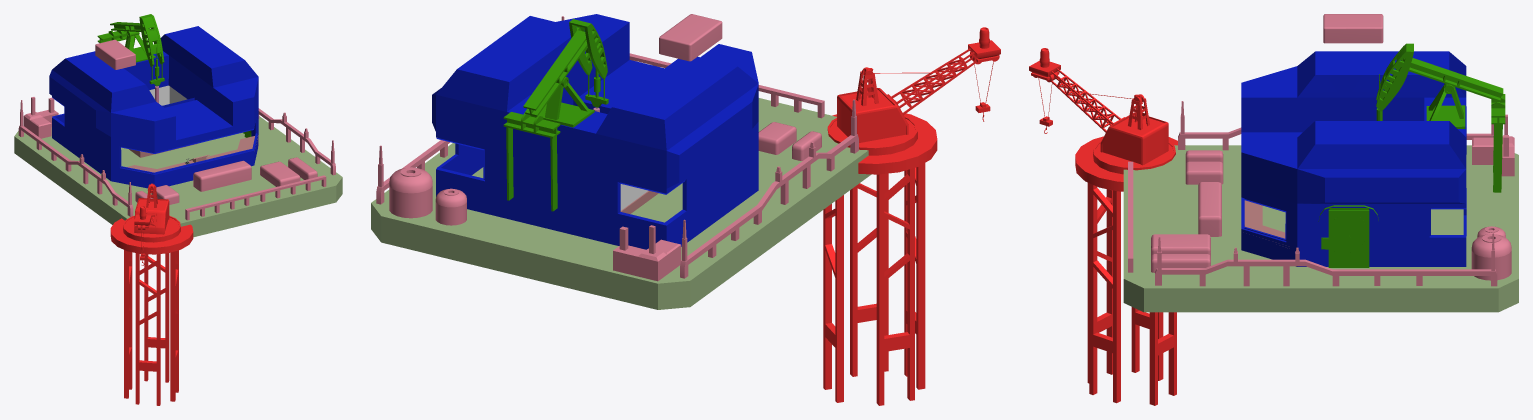
Rendered from sichu_in_all.fbx.
3 renders of one model, left to right at view 1: azimuth 30°, elevation 25°; view 2: azimuth 150°, elevation 25°; view 3: azimuth 270°, elevation 25°, orthographic. The views are drawn at different scales.
Parts seen in each view (by area): view 1: Box005, main_board, front_steel_structure2, Box024, Box003, Cylinder018, Box002, Box017, Box018, Box059, Box056, Cylinder019 (+2 smaller); view 2: Box005, main_board, front_steel_structure2, Box024, Box003, Cylinder016, Box018, Box059, Cylinder018, Box054, Box021, Cylinder019 (+7 smaller); view 3: Box005, main_board, front_steel_structure2, Box024, Box017, Box018, Cylinder016, Box054, Cylinder018, Box031, Box056, Box059 (+10 smaller).
Part boxes in pixels (x1,y1,x2,y2): Box005: (49, 26, 258, 188); main_board: (14, 116, 342, 237); front_steel_structure2: (124, 250, 178, 405); Box024: (95, 39, 317, 204); Box003: (18, 100, 133, 216); Cylinder018: (110, 218, 193, 254); Box002: (185, 175, 326, 220); Box017: (258, 108, 335, 175); Box018: (134, 198, 169, 234); Box059: (23, 97, 58, 138); Box056: (139, 14, 164, 66); Cylinder019: (123, 215, 180, 242); Box005: (432, 14, 758, 249); main_board: (371, 98, 871, 309); front_steel_structure2: (823, 163, 925, 405); Box024: (659, 14, 821, 160); Box003: (680, 99, 858, 278); Cylinder016: (389, 167, 466, 225); Box018: (837, 88, 908, 142); Box059: (613, 225, 681, 281); Cylinder018: (832, 113, 937, 174); Box054: (523, 30, 587, 116); Box021: (891, 48, 974, 114); Cylinder019: (827, 115, 917, 155); Box005: (1241, 51, 1466, 266); main_board: (1123, 145, 1518, 312); front_steel_structure2: (1087, 182, 1176, 405); Box024: (1151, 14, 1383, 272); Box017: (1155, 233, 1497, 286); Box018: (1100, 112, 1168, 165); Cylinder016: (1471, 226, 1511, 280); Box054: (1403, 58, 1503, 101); Cylinder018: (1075, 136, 1177, 191); Box031: (1328, 210, 1350, 267); Box056: (1376, 43, 1413, 111); Box059: (1472, 114, 1514, 176).
Size of the model in its own units: 1904 by 2109 by 2313.
